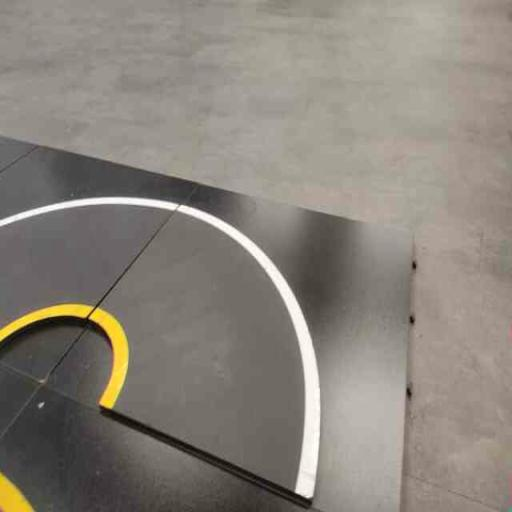left: (78, 181, 387, 511)
